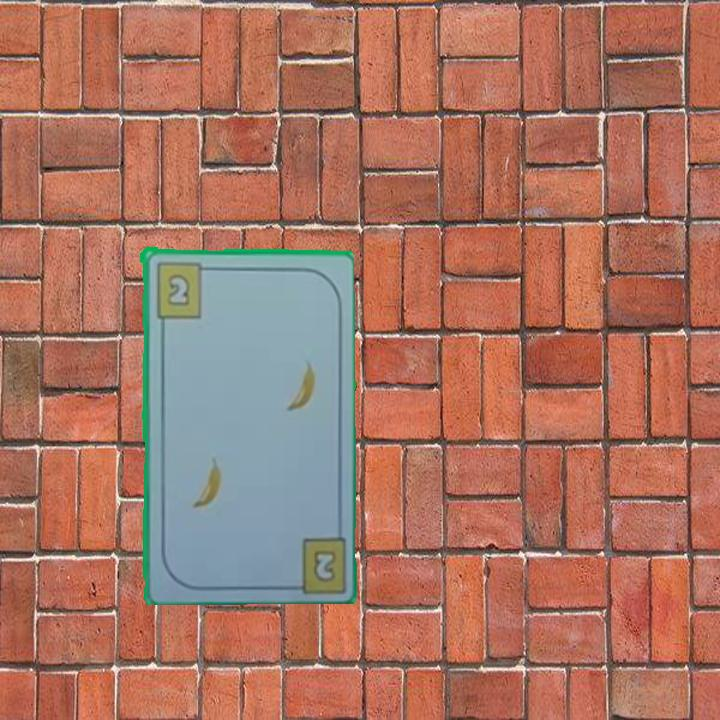2b: (152, 258, 213, 320), (309, 546, 338, 583)
